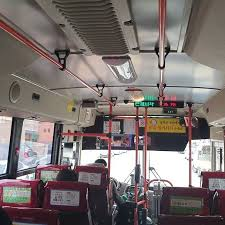seat: (161, 178, 209, 215)
